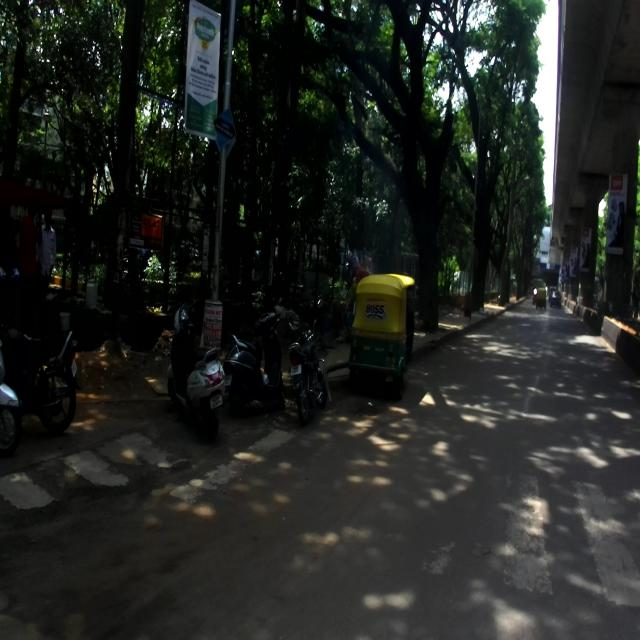autorickshaw: (347, 272, 418, 398)
motorcycle: (0, 312, 83, 434)
motorcycle_Hero: (283, 296, 329, 424)
scooter: (166, 294, 225, 440), (219, 304, 285, 415)
